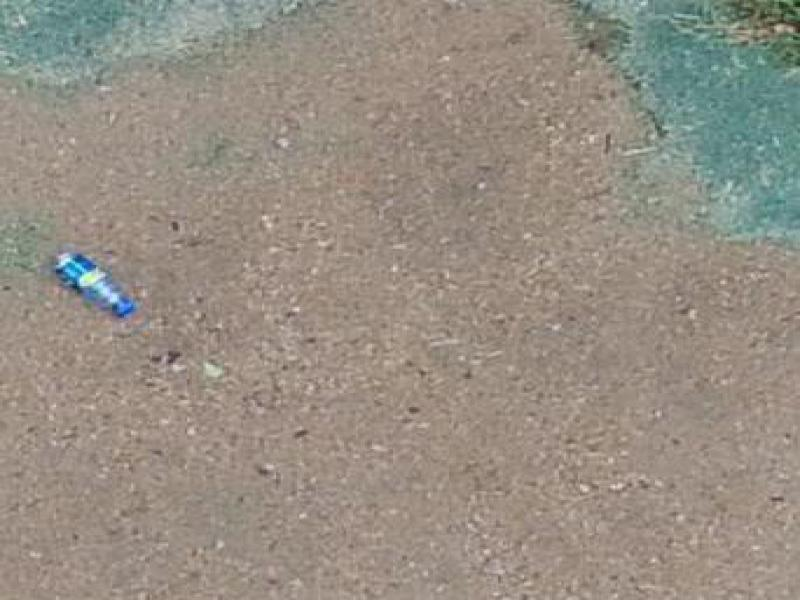bottle: (43, 245, 146, 328)
